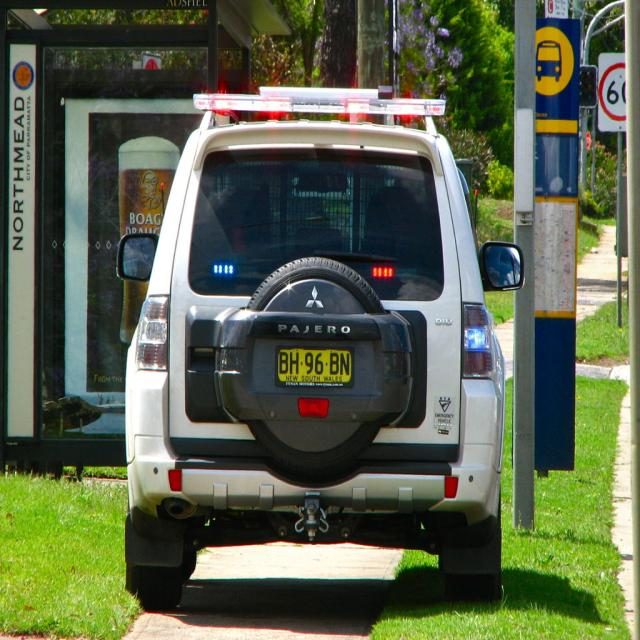car: (112, 85, 518, 612)
